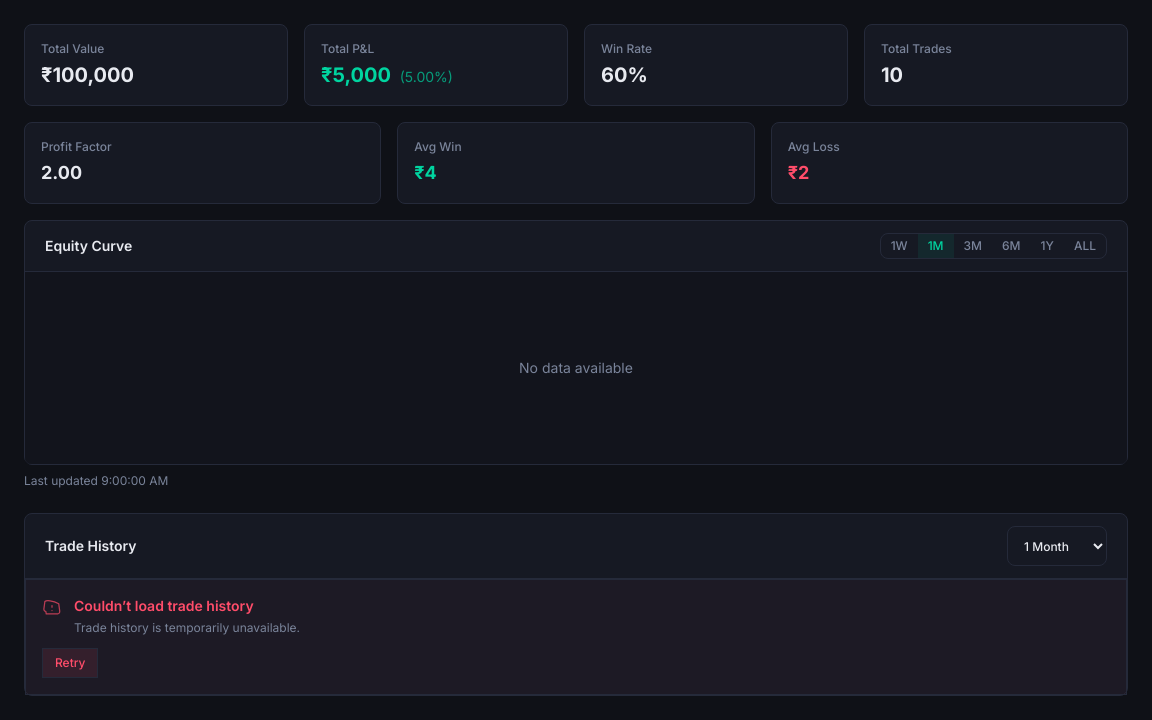
PortfolioView — explicit section state › shows a persistent initial trade-history error instead of a false empty state
(page scrolled)
Expected: the heading "Trade History" is shown, [45,536,137,556]
Expected: the element that starts with "Trade History" is shown, [24,513,1128,696]
What coordinates should you click on to do the following:
click the button "Retry"
I would click on:
 (70, 663)
Its box is [42,648,98,678].
(page scrolled)
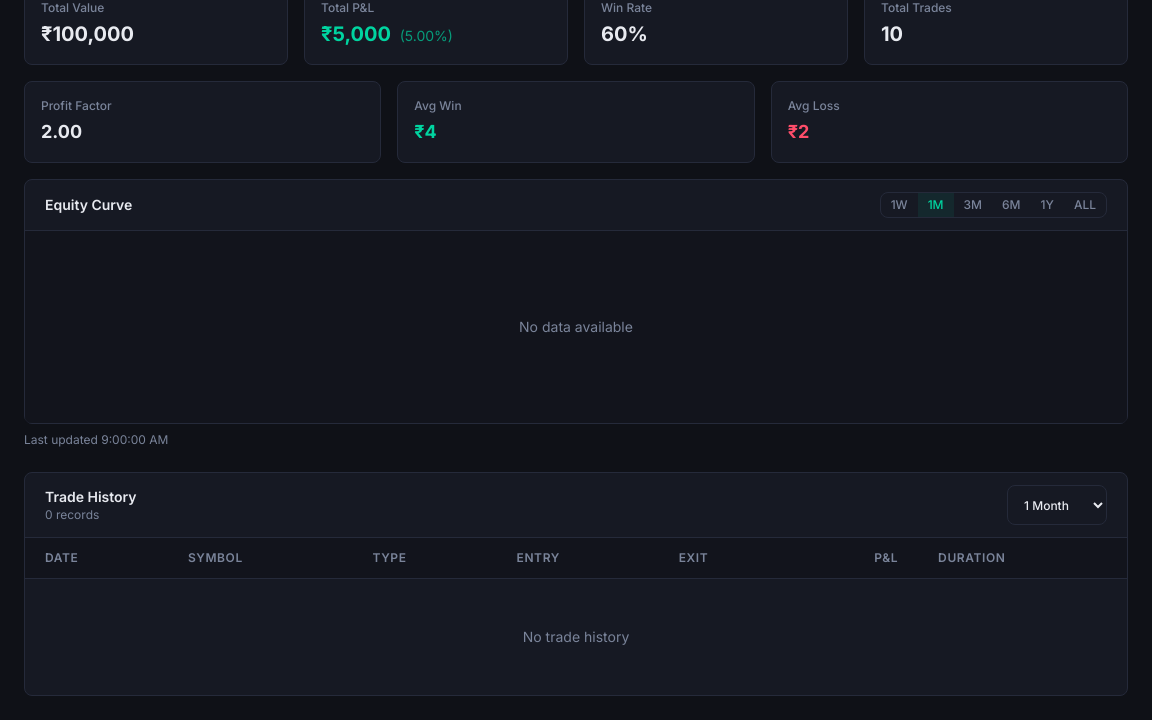
Expected: the heading "Trade History" is shown, [45,487,137,507]
Now the element that starts with "Trade History" shows "No trade history", box [523,628,629,645]
Now the heading "Couldn’t load trade history" no longer shows "couldn.t load trade history"
